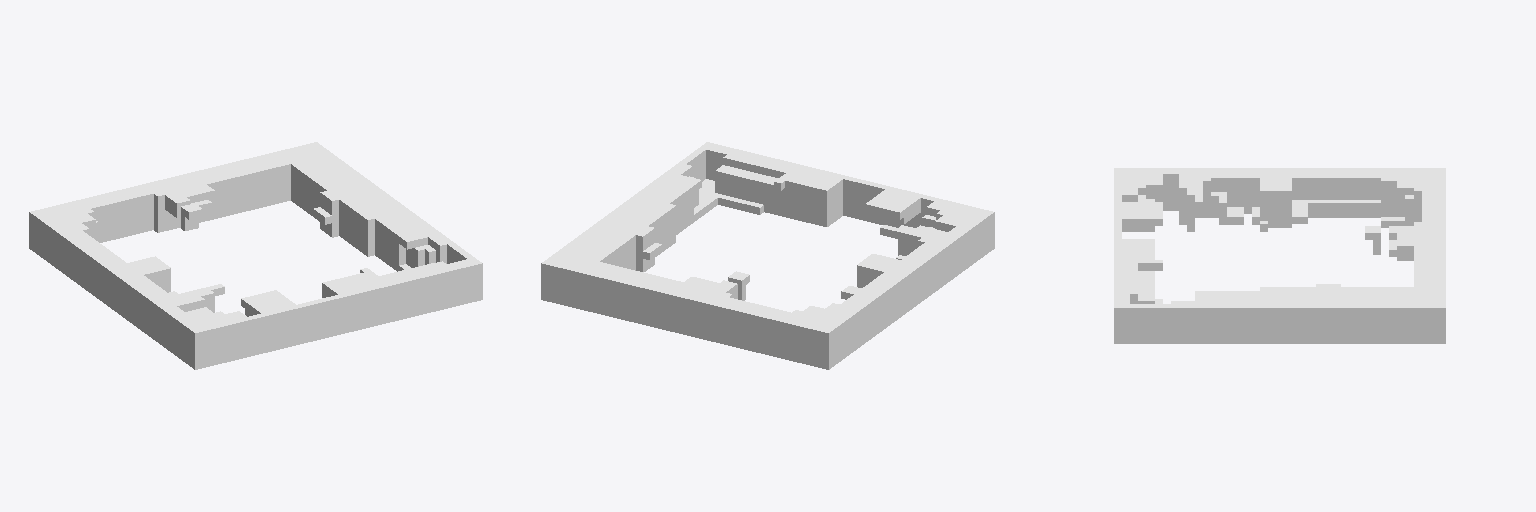
The model's file is recta_suelo_roto_completamente.obj.
The picture shows the model from 3 angles: view 1: azimuth 30°, elevation 25°; view 2: azimuth 150°, elevation 25°; view 3: azimuth 270°, elevation 25°; orthographic projection.
Visible parts, largest first — view 1: recta_suelo_roto_completamente; view 2: recta_suelo_roto_completamente; view 3: recta_suelo_roto_completamente.
Boxes of the visible parts, x1,y1,x2,y2 form: recta_suelo_roto_completamente: [29, 142, 482, 369]; recta_suelo_roto_completamente: [541, 142, 994, 369]; recta_suelo_roto_completamente: [1114, 168, 1445, 343].
Bounding box in the file's own units: 41 × 5 × 41.